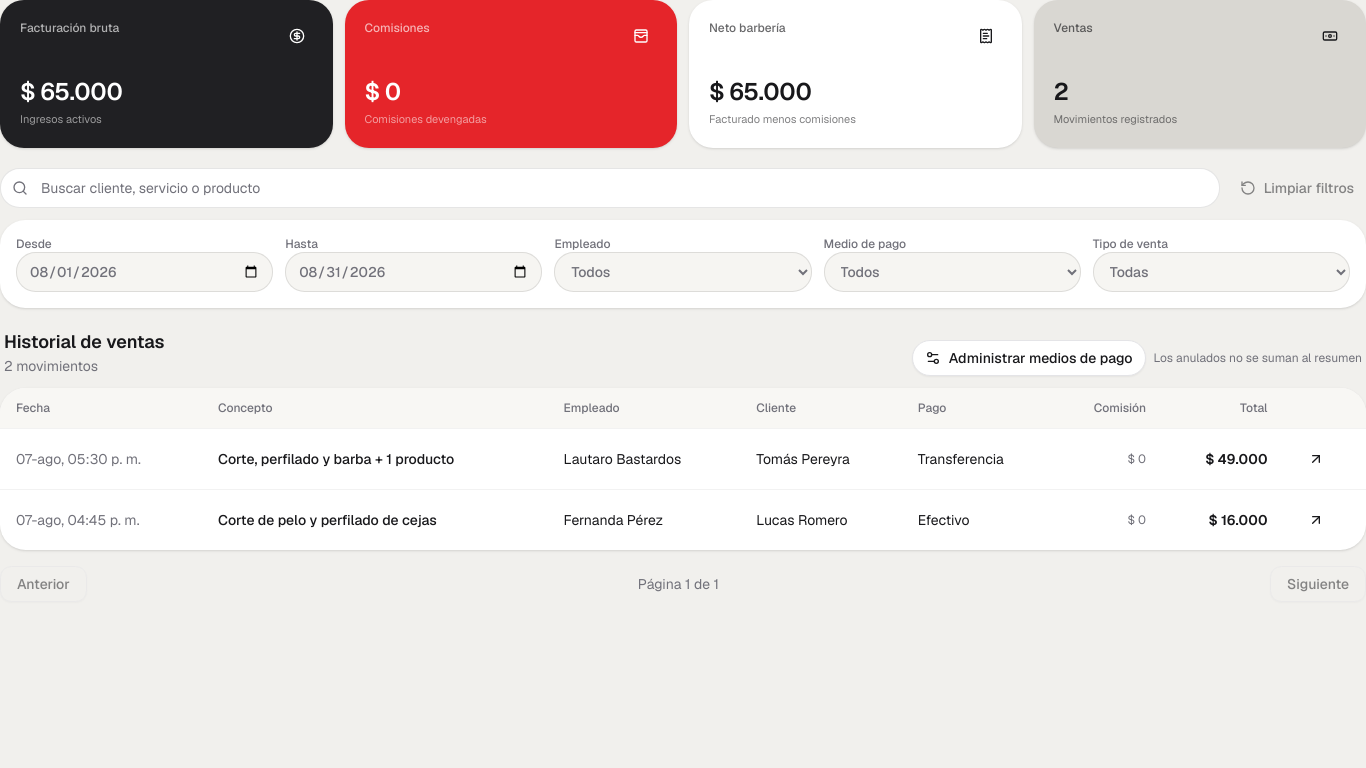
Test: IncomesView (manager) › voids once after confirmation and refetches metrics
Step 1. Click the button named "abrir ingreso" → click(1316, 459), box [1300,443,1332,475]
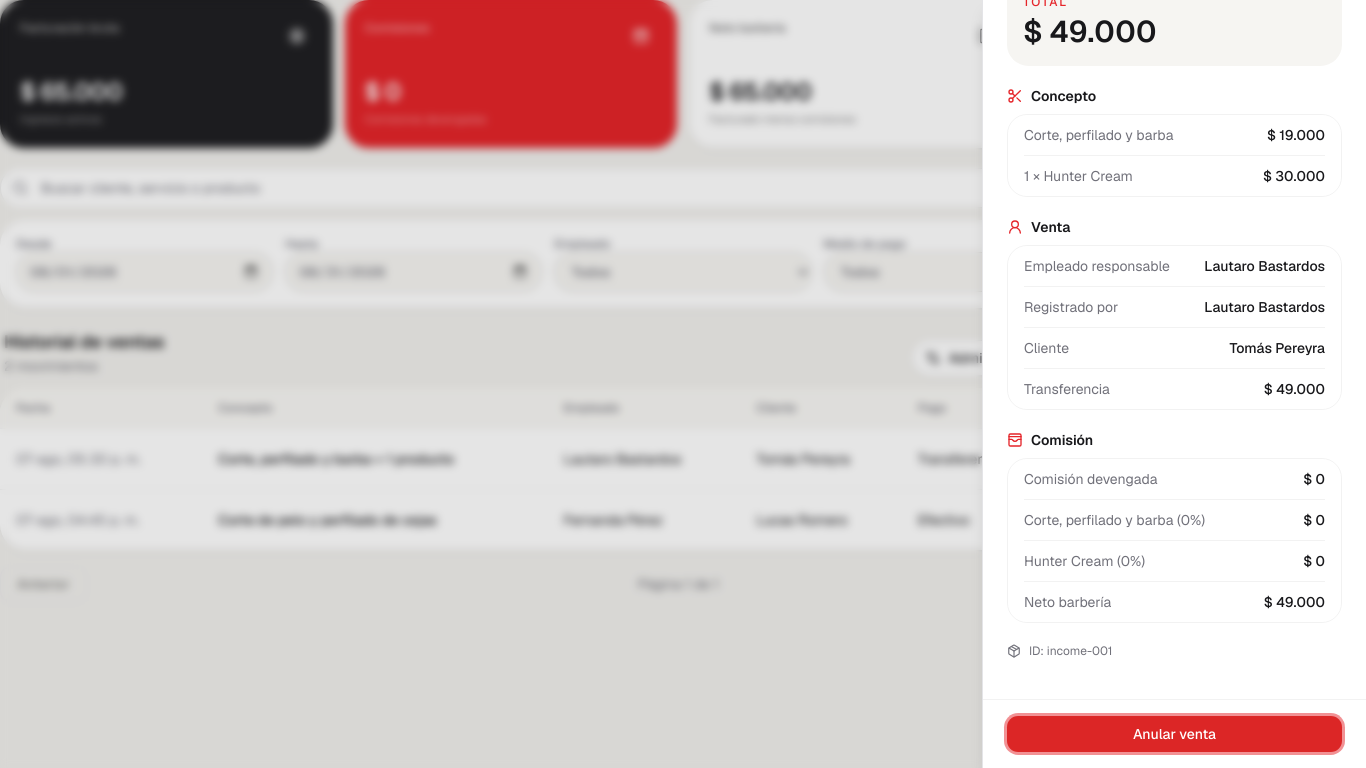
Step 2. Click the button "Anular venta" → click(1174, 734), box [1007,716,1342,752]
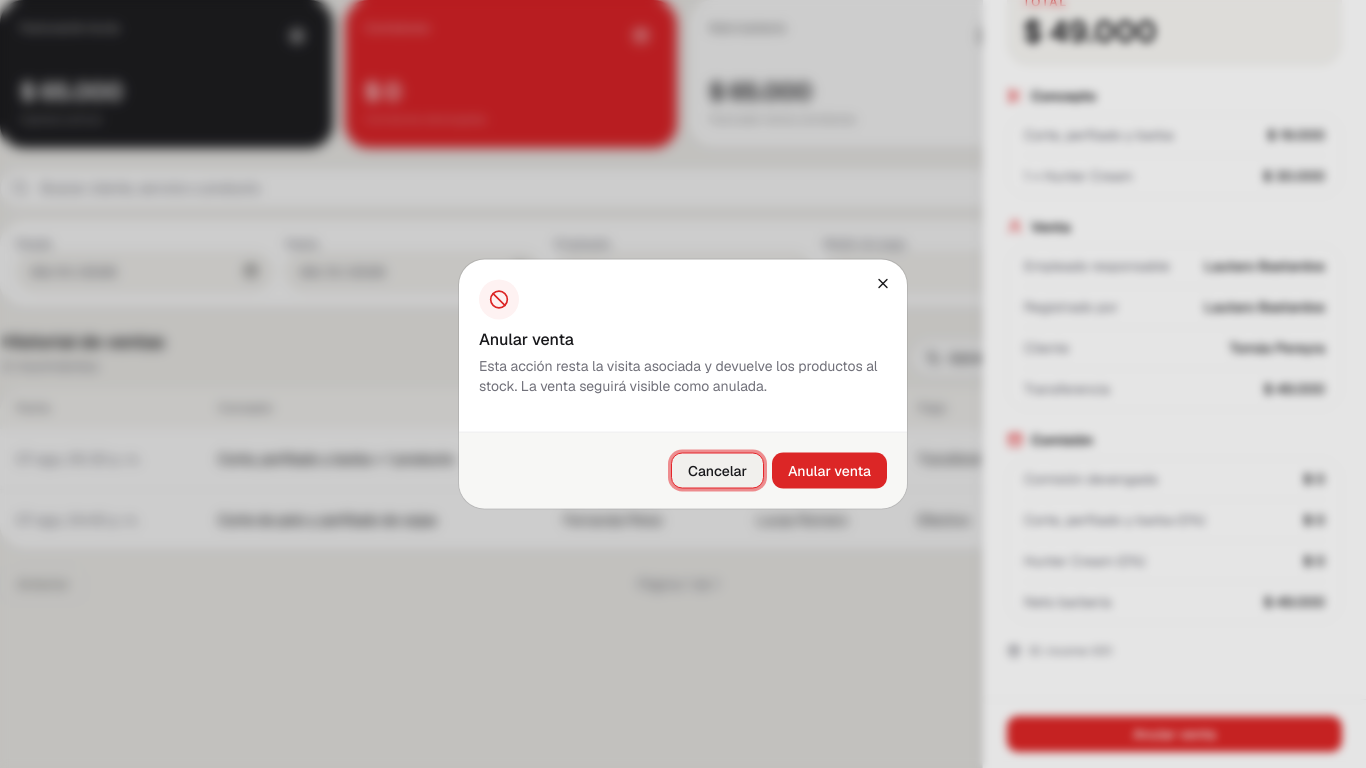
Step 3. Click the button "Anular venta" → click(830, 470), box [772,452,887,488]
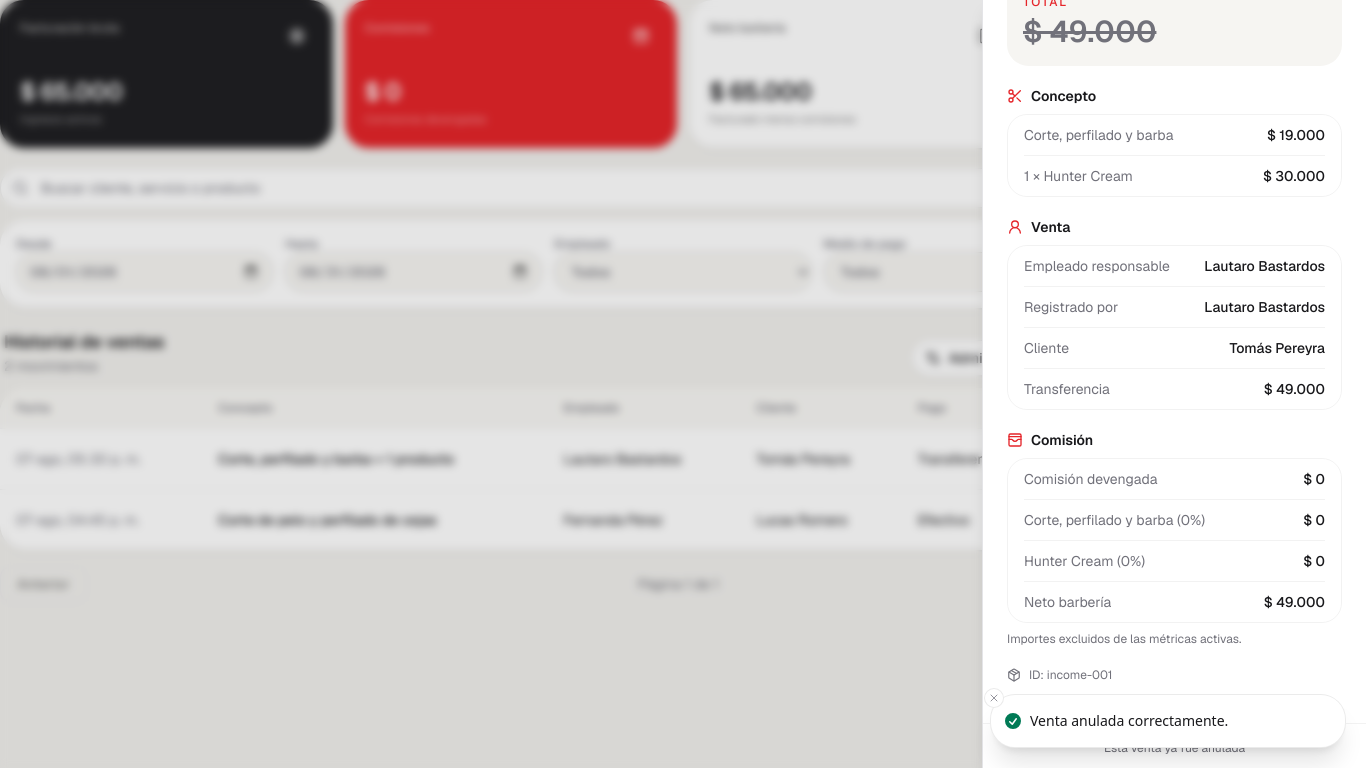
Expected: the text "Venta anulada correctamente." is shown, [1030,711,1228,731]
